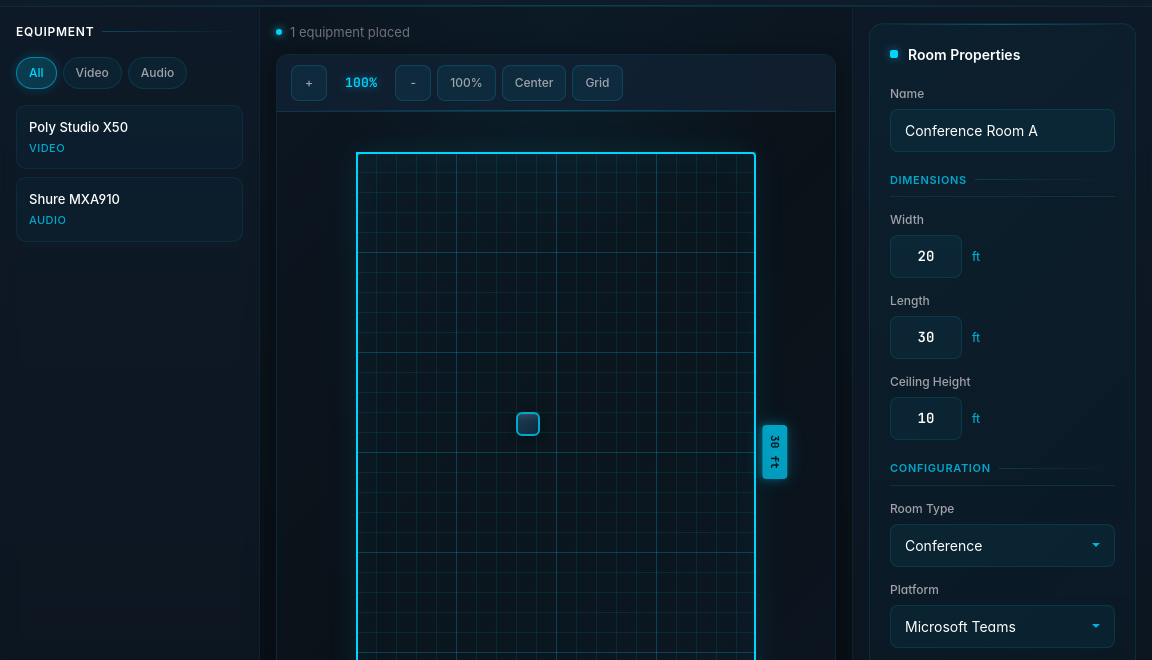
Test case: RoomBuilder › Equipment Selection › shows selected equipment details in sidebar
Click the element with test id "placed-equipment-pe-1". click: (528, 424)
box: [516,412,540,436]
(page scrolled)
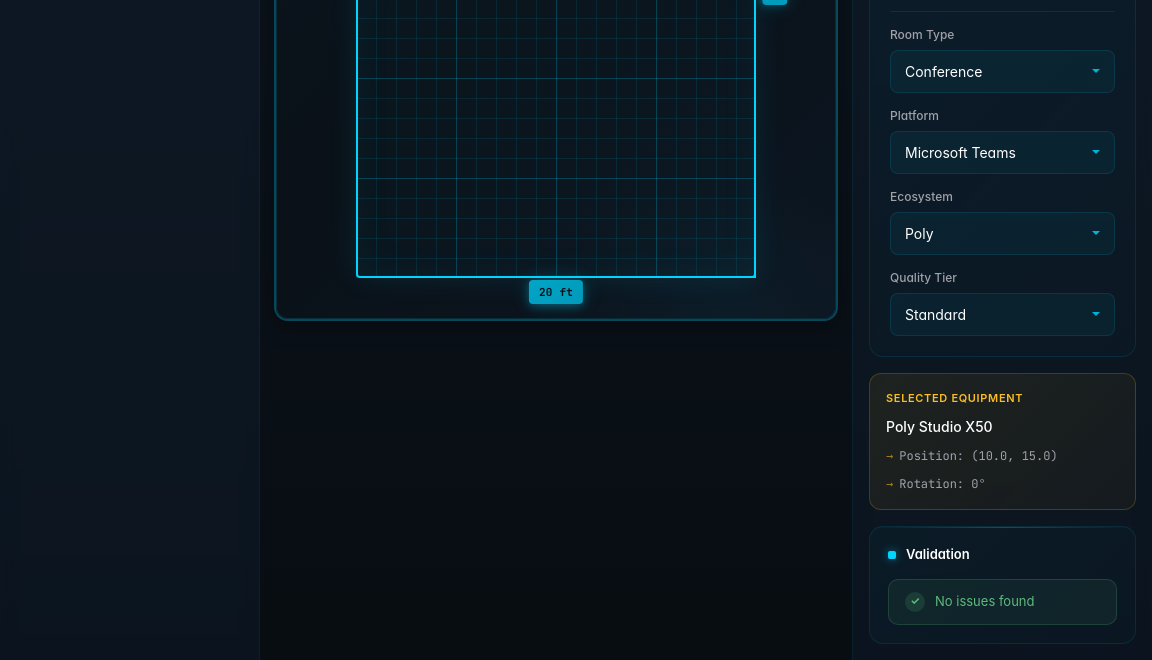
Now the heading "Selected Equipment" is shown, box [886,390,1023,404]
Now the text "Selected Equipment" shows "Poly Studio X50", box [869,372,1136,510]
